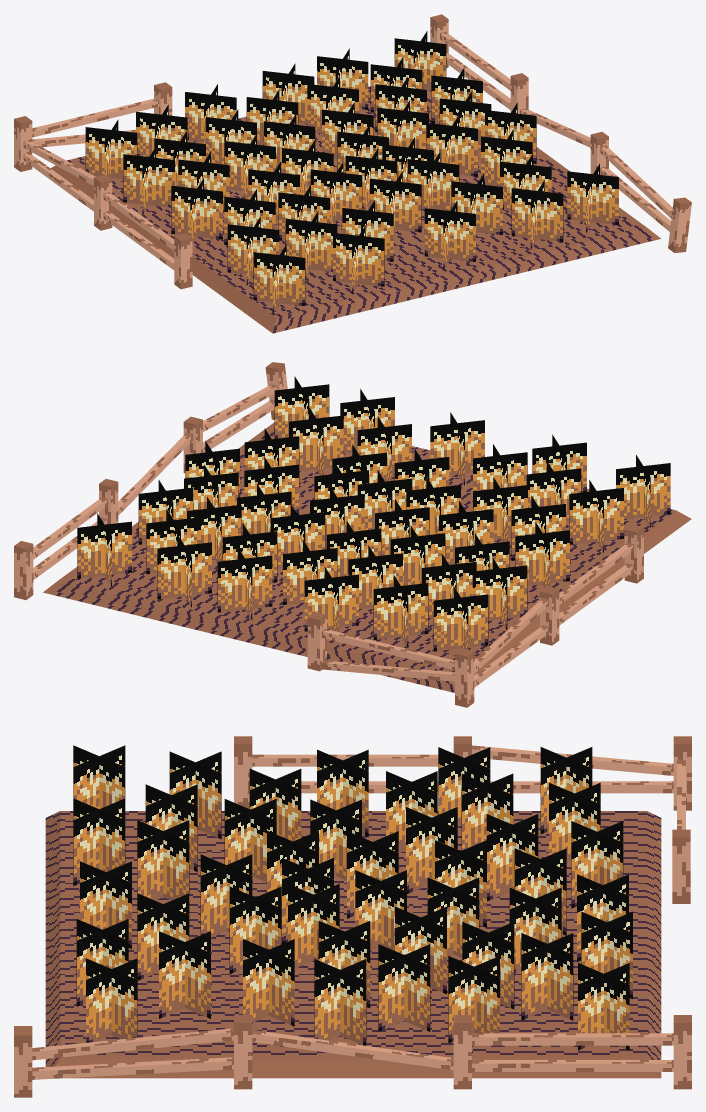
The model's file is farmland.glb.
The picture shows the model from 3 angles, top to bottom: view 1: azimuth 30°, elevation 25°; view 2: azimuth 150°, elevation 25°; view 3: azimuth 270°, elevation 25°; orthographic projection. The views are drawn at different scales.
Parts seen in each view (by area): view 1: farmland; view 2: farmland; view 3: farmland.
Boxes of the visible parts, left/top/right/bottom form: farmland: left=14, top=14, right=691, bottom=333; farmland: left=14, top=362, right=691, bottom=707; farmland: left=14, top=736, right=691, bottom=1097.
Bounding box in the file's own units: 9.31 × 1.36 × 9.25.
1 material, 1 textured.
